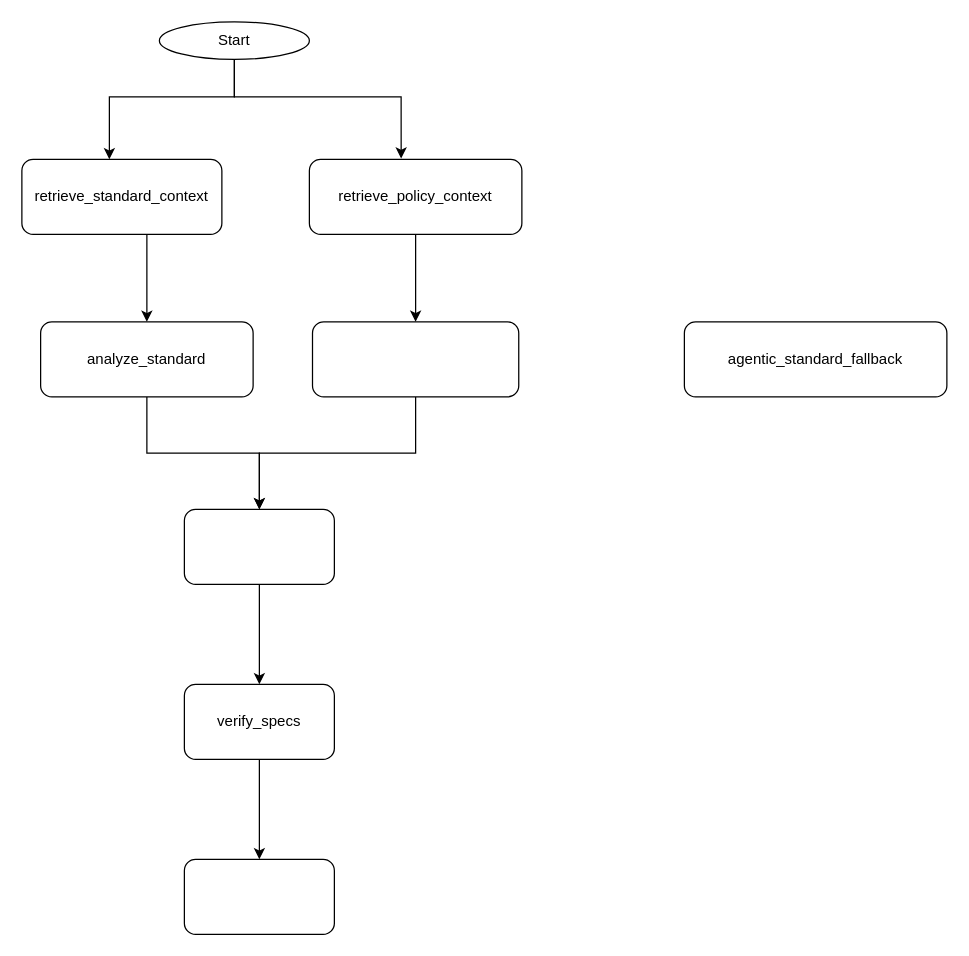
Image size: 969x956. Some labels were removed from this diagram. Here are the shapes that lost their labels. From the top down, the box of each, then its label:
(311, 321, 519, 397): analyze_policy
(183, 508, 334, 584): merge_analyses
(183, 858, 334, 934): reflect
